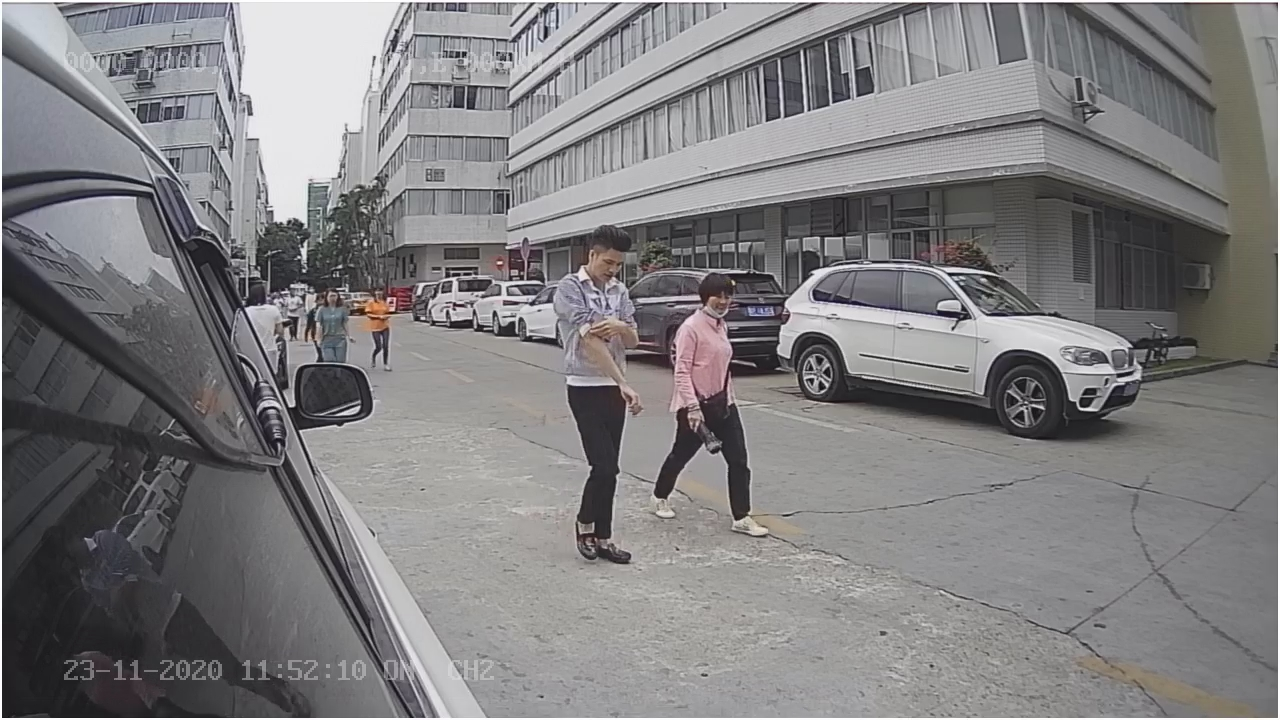person: (650, 264, 768, 537), (548, 224, 642, 562)
